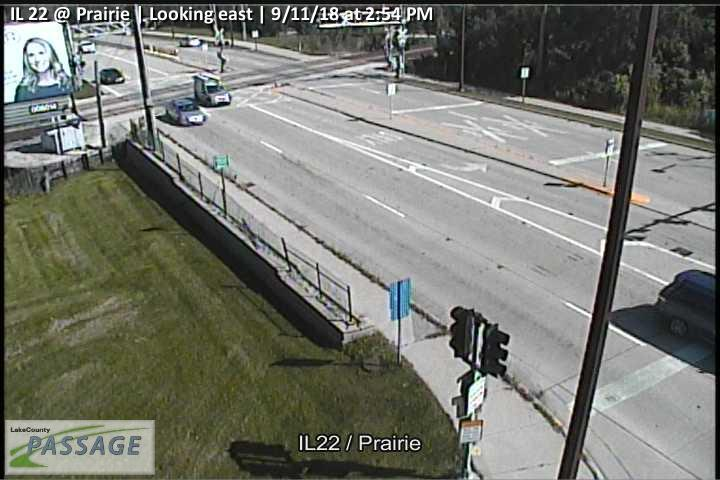SUV: (653, 269, 720, 347)
Sedan: (164, 97, 207, 126), (99, 68, 125, 84)
Truck: (194, 73, 232, 106)
